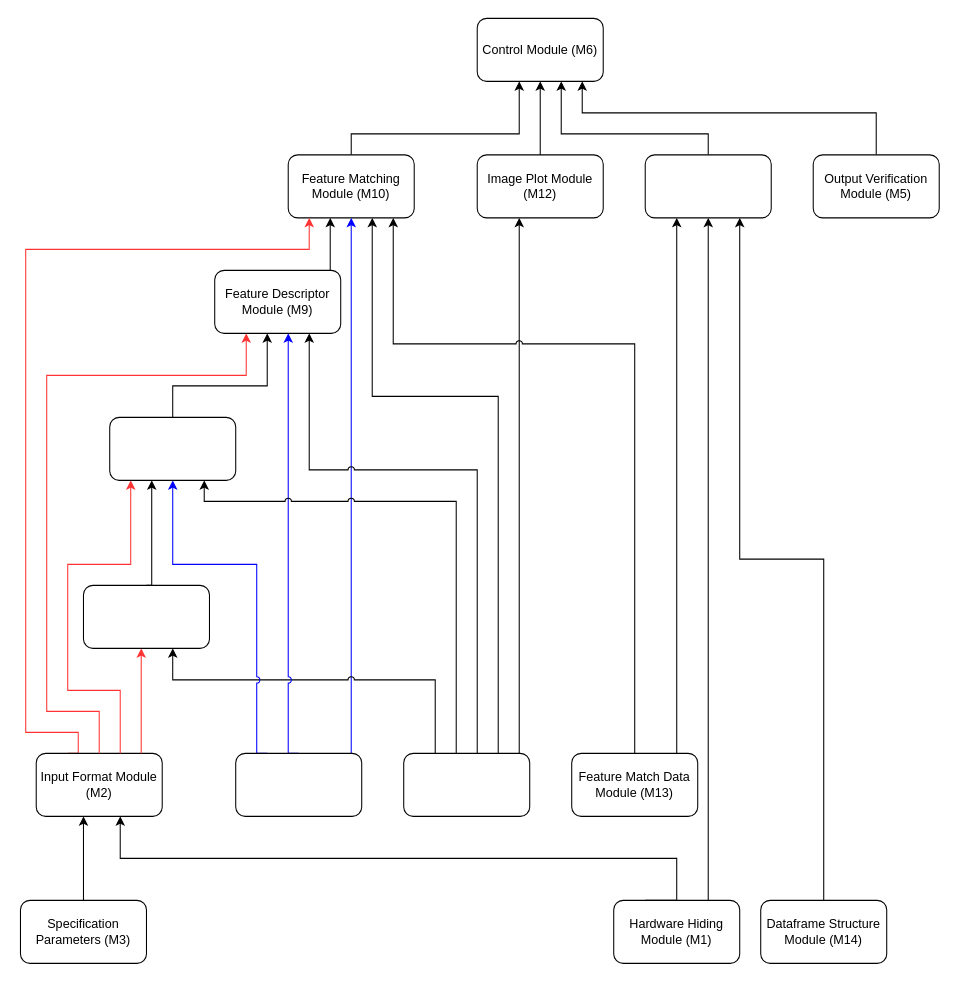
The diagram is 958 pixels wide and 982 high, and some of its shapes have lost their labels. The centre of each missing label's shape, as x and y in pixels:
Image Data Structure Module (M11): pixel 466 784
Image Smoothing Module (M7): pixel 145 616
Keypoint Detection Module (M8): pixel 172 448
ORB Data Structure Module (M15): pixel 298 784
Output Format Module (M4): pixel 707 186
